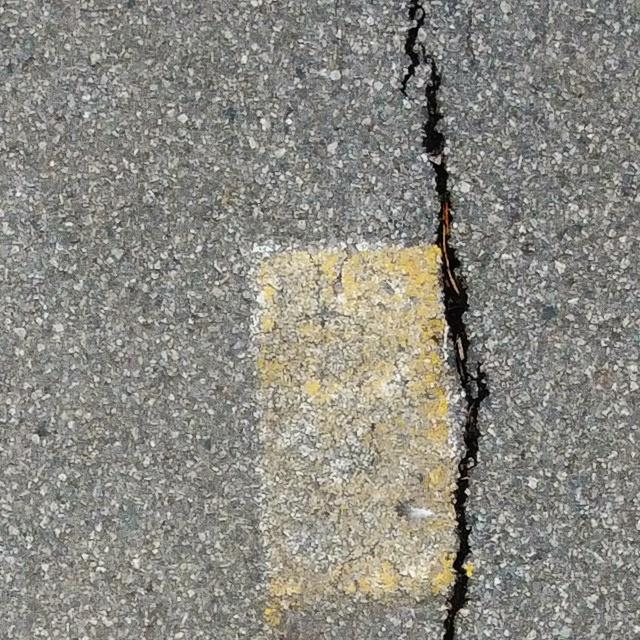LongitudinalCrack: (397, 1, 494, 640)
